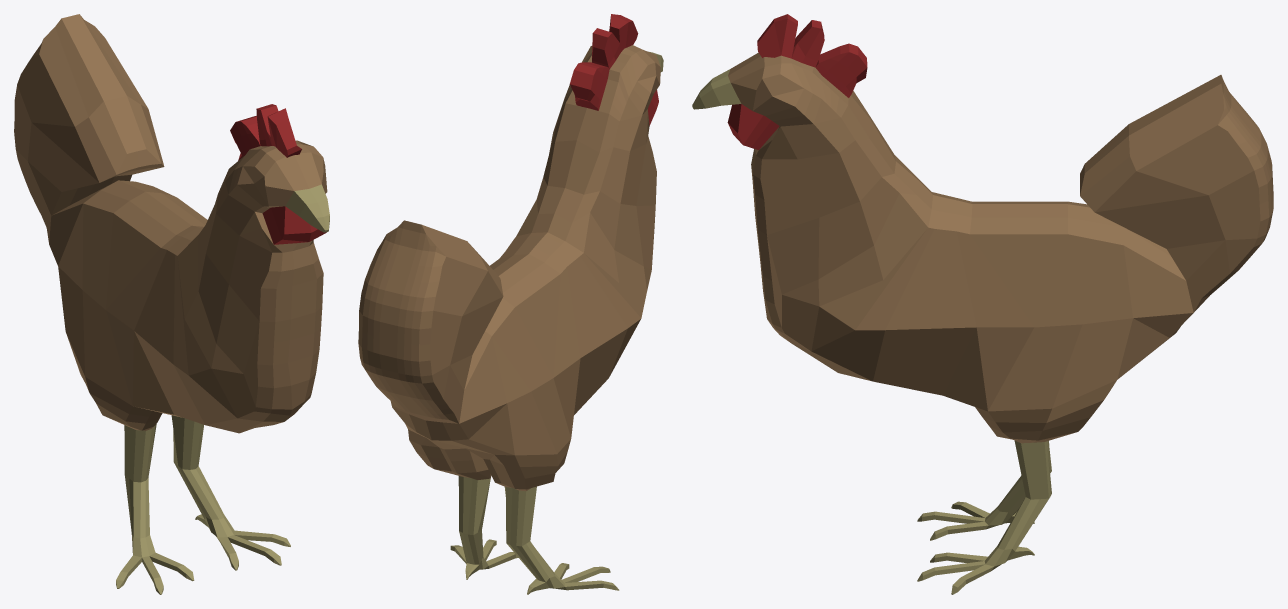
Rendered from chicken model brown FIXED.fbx.
3 renders of one model, left to right at view 1: azimuth 30°, elevation 25°; view 2: azimuth 150°, elevation 25°; view 3: azimuth 270°, elevation 25°, orthographic. The views are drawn at different scales.
Visible parts, largest first — view 1: Chicken; view 2: Chicken; view 3: Chicken.
Part boxes in pixels (left/top/right/bottom): Chicken: left=14, top=14, right=329, bottom=594; Chicken: left=358, top=14, right=663, bottom=594; Chicken: left=692, top=14, right=1273, bottom=594.
Bounding box in the file's own units: 236 × 671 × 663.
